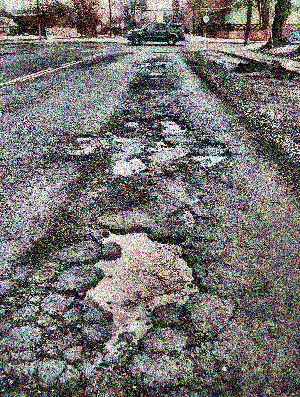pothole: (78, 222, 207, 362), (187, 140, 232, 167), (151, 112, 192, 135), (111, 155, 150, 179), (147, 134, 179, 151), (75, 132, 93, 142)
